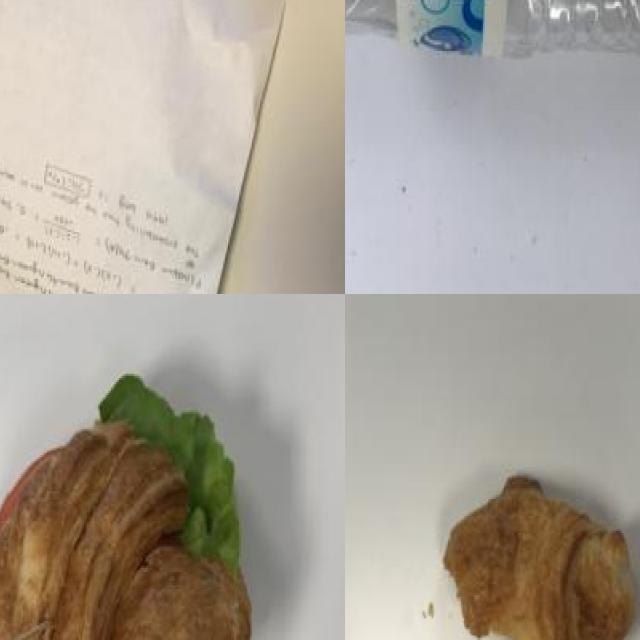compost: (0, 344, 279, 640), (421, 472, 640, 640)
paper: (0, 0, 255, 294)
plastic: (345, 0, 640, 70)
